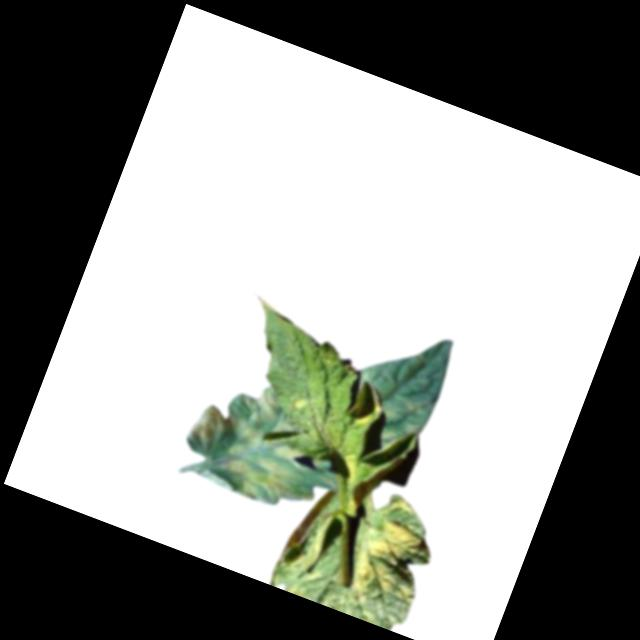Leaf_Mold: (173, 365, 345, 518), (340, 486, 444, 613), (369, 386, 435, 460), (344, 380, 387, 432)
